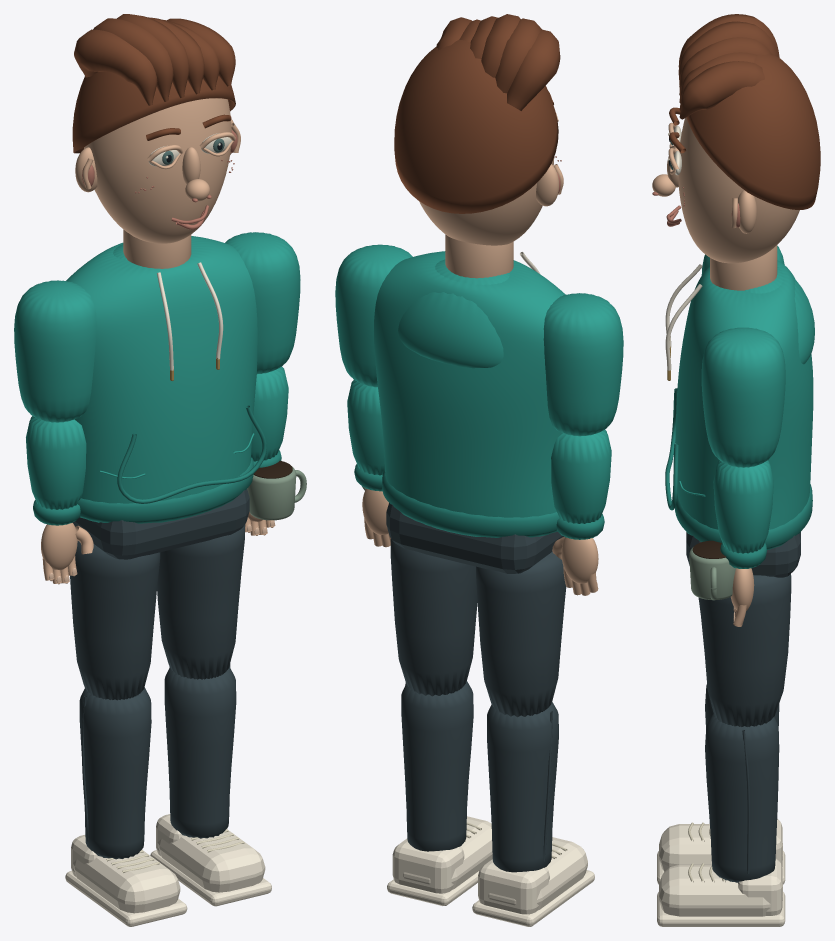
File: wren.glb
3 views of the same model, side by side, from view 1: azimuth 30°, elevation 25°; view 2: azimuth 150°, elevation 25°; view 3: azimuth 270°, elevation 25° (orthographic). The views are drawn at different scales.
Visible parts, largest first — view 1: Wren_Sweater, Wren_Brow, Wren_Face, Wren_Upper trouserL, Wren_Lower trouserL, Wren_Lower trouserR, Wren_Upper trouserR, Wren_SleeveL, Wren_ShoeL, Wren_SleeveR, Wren_ShoeR, Wren_Pelvis (+9 smaller); view 2: Wren_Sweater, Wren_Brow, Wren_Upper trouserL, Wren_Upper trouserR, Wren_Lower trouserR, Wren_Lower trouserL, Wren_SleeveL, Wren_ShoeL, Wren_SleeveR, Wren_ShoeR, Wren_Pelvis, Wren_Long sleeveL (+7 smaller); view 3: Wren_Brow, Wren_Sweater, Wren_Lower trouserR, Wren_Upper trouserR, Wren_SleeveR, Wren_Face, Wren_ShoeR, Wren_Long sleeveR, Wren_Hem, Wren_ShoeL, Wren_Neck, Wren_Ceramic cup (+5 smaller).
Part boxes in pixels (x1,y1,x2,y2): Wren_Sweater: (66, 236, 257, 522); Wren_Brow: (72, 14, 235, 153); Wren_Face: (75, 98, 240, 243); Wren_Upper trouserL: (70, 541, 160, 700); Wren_Lower trouserL: (79, 687, 151, 859); Wren_Lower trouserR: (164, 663, 236, 838); Wren_Upper trouserR: (157, 524, 245, 679); Wren_SleeveL: (14, 280, 96, 422); Wren_ShoeL: (65, 835, 187, 926); Wren_SleeveR: (225, 232, 300, 374); Wren_ShoeR: (150, 814, 271, 906); Wren_Pelvis: (72, 489, 249, 559); Wren_Sweater: (374, 251, 565, 536); Wren_Brow: (394, 14, 560, 213); Wren_Upper trouserL: (476, 552, 566, 717); Wren_Upper trouserR: (390, 539, 477, 696); Wren_Lower trouserR: (401, 681, 473, 851); Wren_Lower trouserL: (487, 701, 558, 872); Wren_SleeveL: (543, 293, 623, 436); Wren_ShoeL: (472, 837, 594, 926); Wren_SleeveR: (335, 244, 412, 387); Wren_ShoeR: (387, 816, 492, 905); Wren_Pelvis: (386, 503, 563, 573); Wren_Long sleeveL: (551, 430, 611, 523); Wren_Brow: (669, 14, 820, 209); Wren_Sweater: (675, 260, 814, 529); Wren_Lower trouserR: (705, 713, 779, 882); Wren_Upper trouserR: (698, 574, 791, 726); Wren_SleeveR: (701, 327, 785, 467); Wren_Face: (652, 117, 799, 263); Wren_ShoeR: (657, 858, 785, 926); Wren_Long sleeveR: (713, 460, 773, 553); Wren_Hem: (665, 388, 812, 549); Wren_ShoeL: (657, 819, 785, 884); Wren_Neck: (710, 245, 777, 290); Wren_Ceramic cup: (689, 547, 735, 600).
Size of the model in its own units: 0.6819 by 2.06 by 0.3669.
